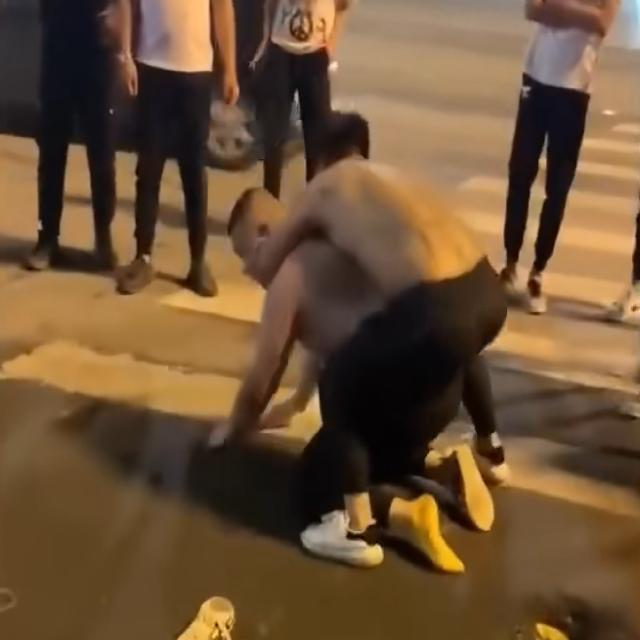fight: (204, 116, 509, 586)
